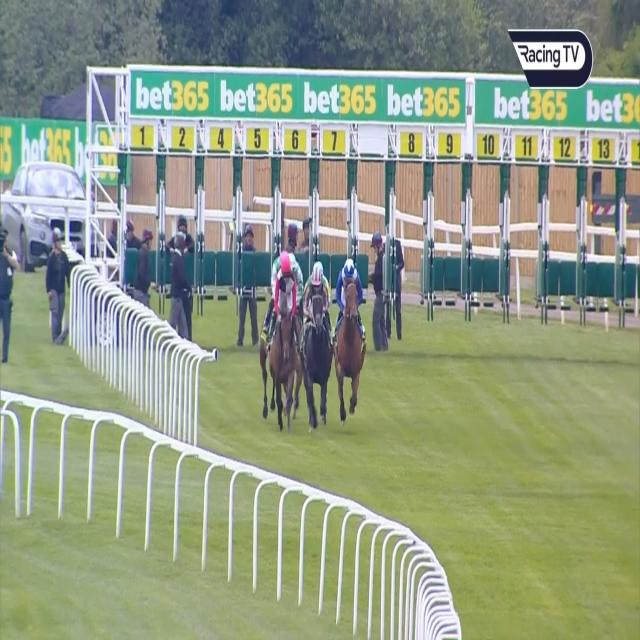horses-racing: (270, 255, 298, 417), (336, 261, 364, 407), (306, 266, 328, 409), (290, 252, 302, 307), (272, 248, 284, 294)
